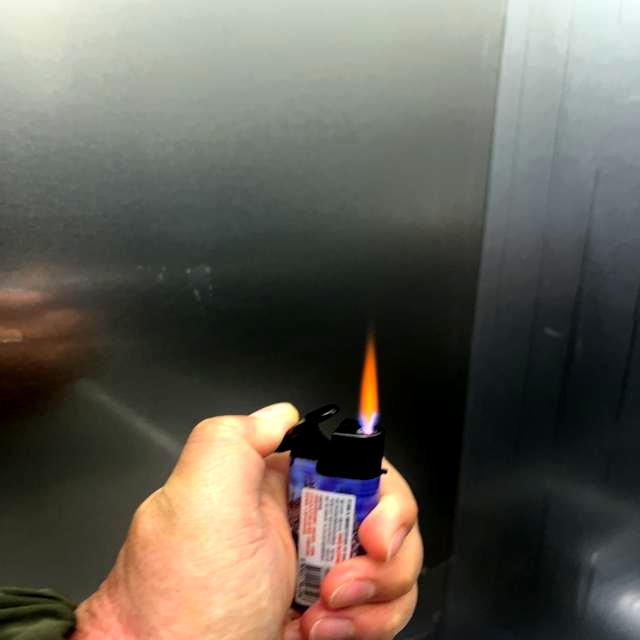fire: (356, 324, 380, 428)
